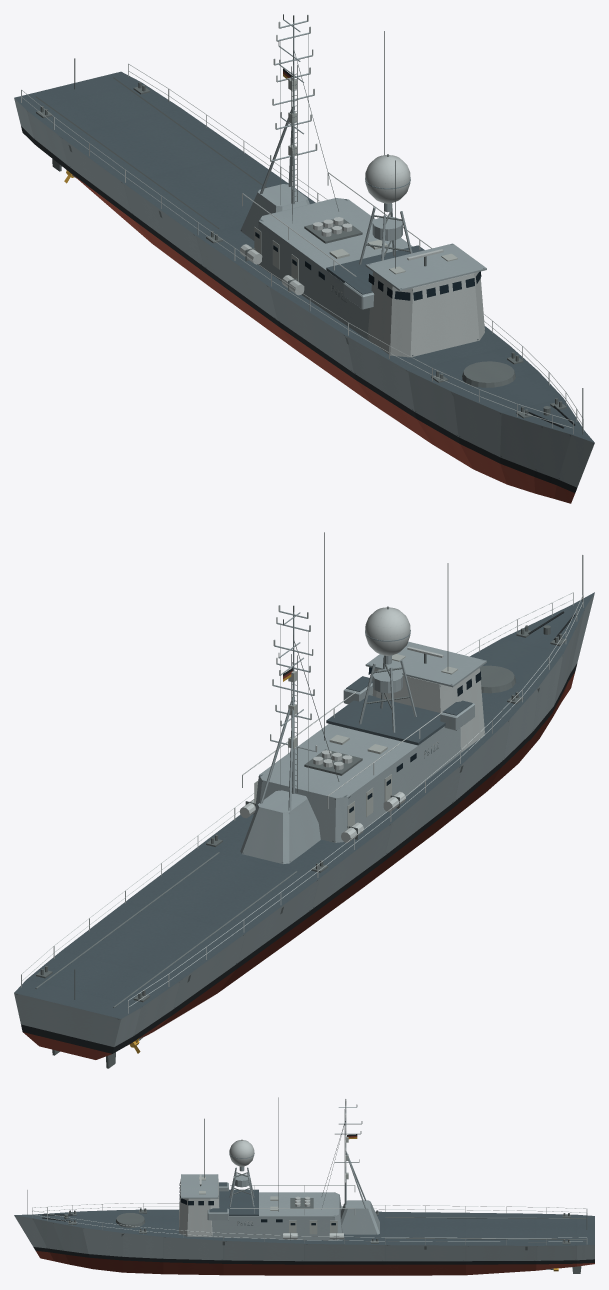
Rendered from hull_gepard.glb.
The picture shows the model from 3 angles, top to bottom: view 1: azimuth 30°, elevation 25°; view 2: azimuth 150°, elevation 25°; view 3: azimuth 270°, elevation 25°; orthographic projection. The views are drawn at different scales.
Parts seen in each view (by area): view 1: MESH_GEPARD_HULL.002; view 2: MESH_GEPARD_HULL.002; view 3: MESH_GEPARD_HULL.002.
Boxes of the visible parts, x1,y1,x2,y2 form: MESH_GEPARD_HULL.002: (14,14,594,503); MESH_GEPARD_HULL.002: (14,532,594,1068); MESH_GEPARD_HULL.002: (14,1097,594,1275).
Size of the model in its own units: 7.8 by 19.45 by 57.6.
Materials: 1 (1 with a texture image).
